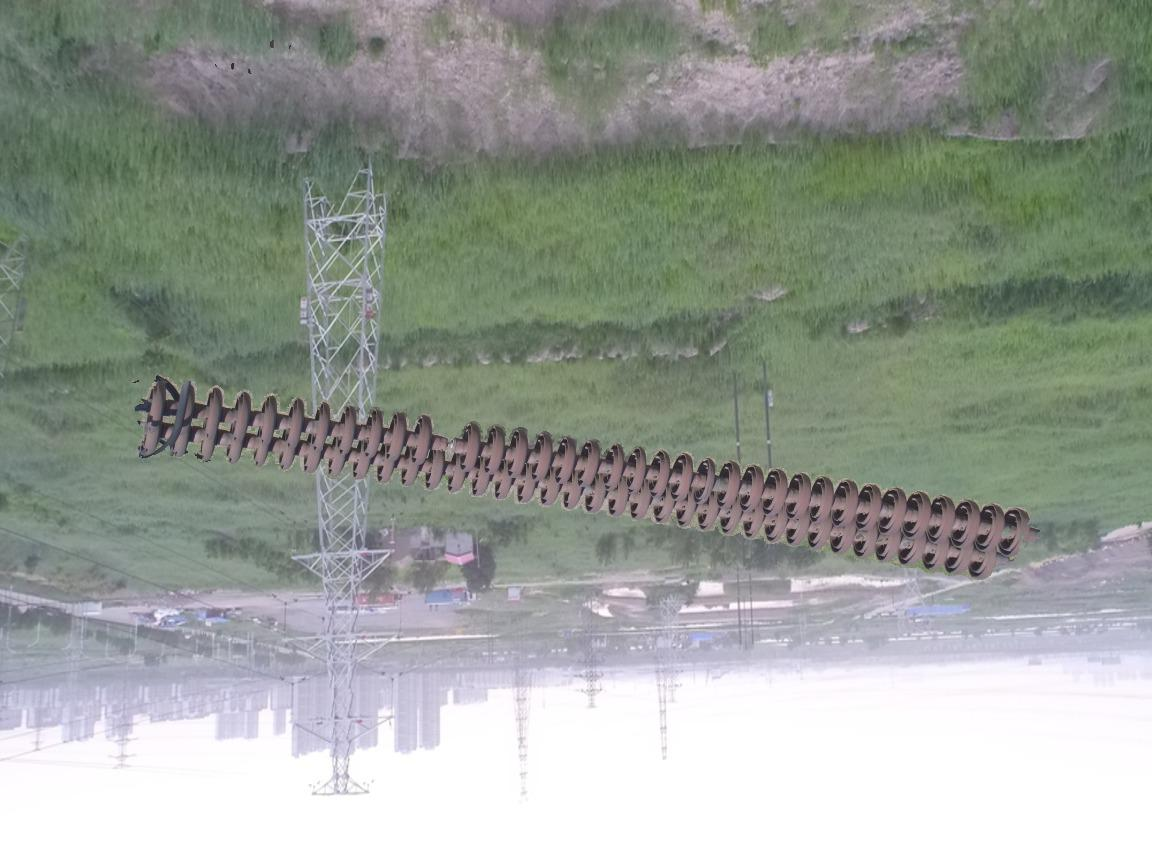insulator: (133, 373, 1032, 586)
insulator_stringdrop: (408, 410, 482, 474)
